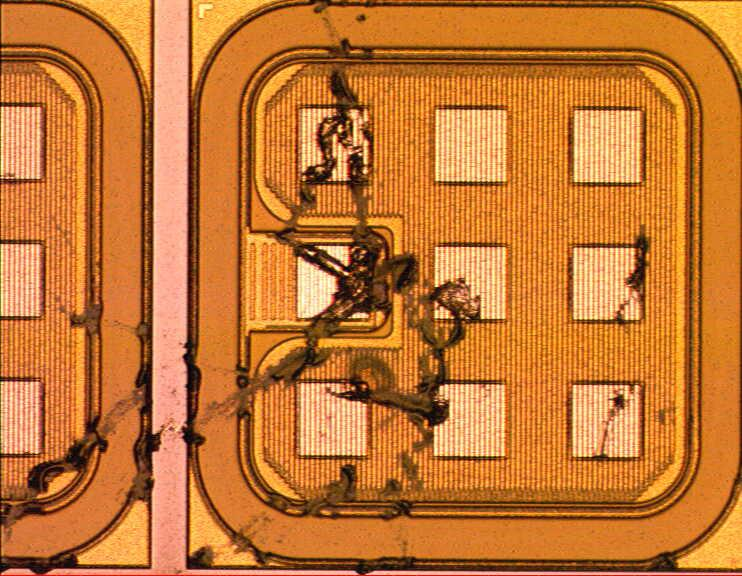SCRATCH: (1, 1, 663, 576)
